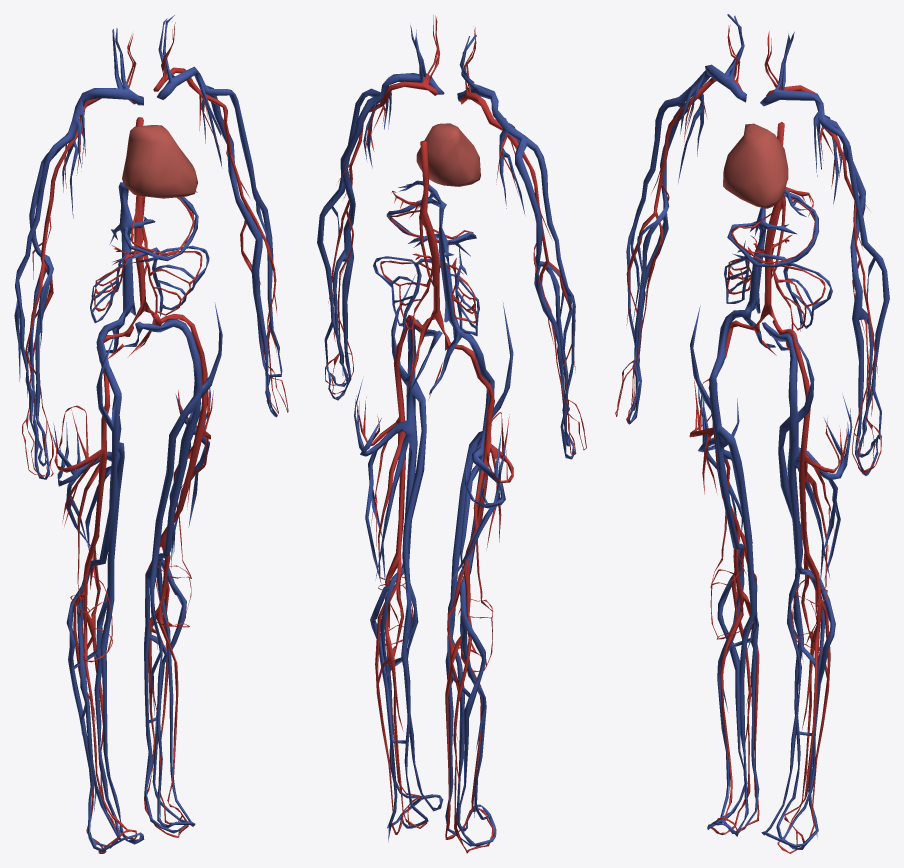
The model's file is pediatric_child_10y_male.cardiovascular.LOD3.glb.
3 renders of one model, left to right at view 1: azimuth 30°, elevation 25°; view 2: azimuth 150°, elevation 25°; view 3: azimuth 330°, elevation 25°, orthographic.
Parts seen in each view (by area): view 1: PEDIATRIC.CHILD_10Y.MALE.CARDIOVASCULAR.BLOOD_IN_LARGE_VEINS, PEDIATRIC.CHILD_10Y.MALE.CARDIOVASCULAR.BLOOD_IN_LARGE_ARTER, PEDIATRIC.CHILD_10Y.MALE.CARDIOVASCULAR.HEART_WALL; view 2: PEDIATRIC.CHILD_10Y.MALE.CARDIOVASCULAR.BLOOD_IN_LARGE_VEINS, PEDIATRIC.CHILD_10Y.MALE.CARDIOVASCULAR.BLOOD_IN_LARGE_ARTER, PEDIATRIC.CHILD_10Y.MALE.CARDIOVASCULAR.HEART_WALL; view 3: PEDIATRIC.CHILD_10Y.MALE.CARDIOVASCULAR.BLOOD_IN_LARGE_VEINS, PEDIATRIC.CHILD_10Y.MALE.CARDIOVASCULAR.BLOOD_IN_LARGE_ARTER, PEDIATRIC.CHILD_10Y.MALE.CARDIOVASCULAR.HEART_WALL.
Boxes of the visible parts, x1,y1,x2,y2 form: PEDIATRIC.CHILD_10Y.MALE.CARDIOVASCULAR.BLOOD_IN_LARGE_VEINS: [14, 15, 282, 852]; PEDIATRIC.CHILD_10Y.MALE.CARDIOVASCULAR.BLOOD_IN_LARGE_ARTER: [22, 21, 288, 853]; PEDIATRIC.CHILD_10Y.MALE.CARDIOVASCULAR.HEART_WALL: [122, 125, 197, 198]; PEDIATRIC.CHILD_10Y.MALE.CARDIOVASCULAR.BLOOD_IN_LARGE_VEINS: [317, 25, 575, 846]; PEDIATRIC.CHILD_10Y.MALE.CARDIOVASCULAR.BLOOD_IN_LARGE_ARTER: [325, 15, 586, 853]; PEDIATRIC.CHILD_10Y.MALE.CARDIOVASCULAR.HEART_WALL: [416, 123, 480, 186]; PEDIATRIC.CHILD_10Y.MALE.CARDIOVASCULAR.BLOOD_IN_LARGE_VEINS: [626, 14, 889, 849]; PEDIATRIC.CHILD_10Y.MALE.CARDIOVASCULAR.BLOOD_IN_LARGE_ARTER: [615, 25, 881, 853]; PEDIATRIC.CHILD_10Y.MALE.CARDIOVASCULAR.HEART_WALL: [723, 123, 788, 208].
Size of the model in its own units: 0.4057 by 1.24 by 0.1473.
